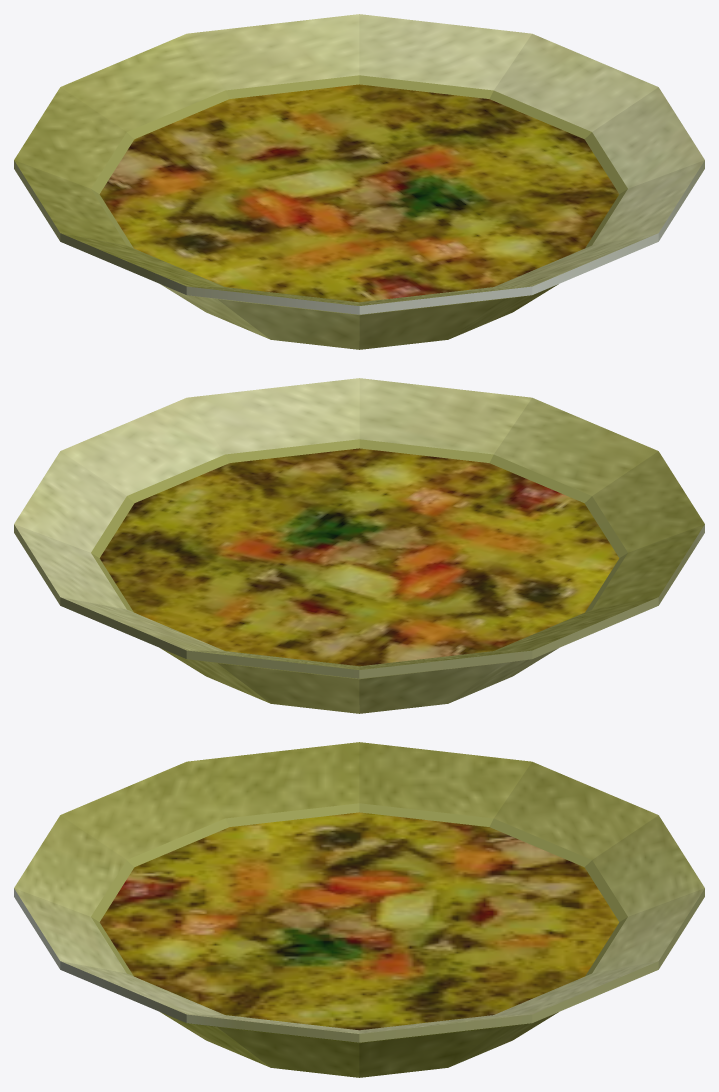
File: KM_ITFO_SOUP01.glb
3 views of the same model, one above another, from view 1: azimuth 30°, elevation 25°; view 2: azimuth 150°, elevation 25°; view 3: azimuth 270°, elevation 25° (orthographic).
Visible parts, largest first — view 1: KM_ITFO_SOUP01; view 2: KM_ITFO_SOUP01; view 3: KM_ITFO_SOUP01.
Part boxes in pixels (left/top/right/bottom): KM_ITFO_SOUP01: left=14, top=14, right=704, bottom=349; KM_ITFO_SOUP01: left=14, top=378, right=704, bottom=713; KM_ITFO_SOUP01: left=14, top=742, right=704, bottom=1077.
Bounding box in the file's own units: 0.342 × 0.0627 × 0.342.
3 materials, 2 textured.
